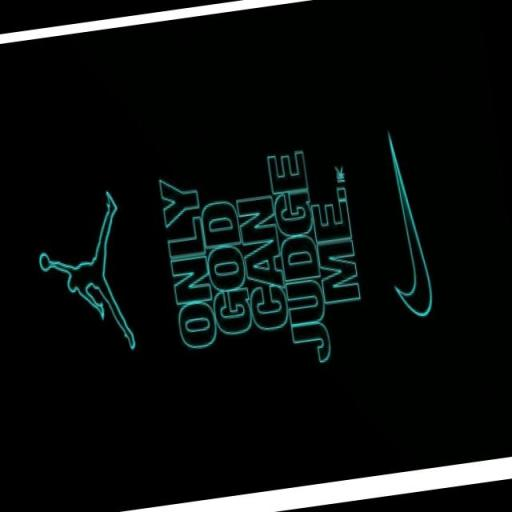Nike: (360, 112, 448, 338)
